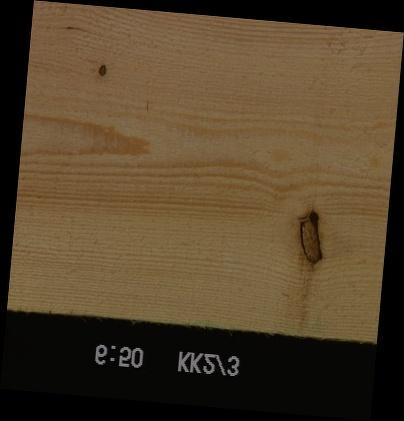dry_knot: (97, 62, 107, 78)
